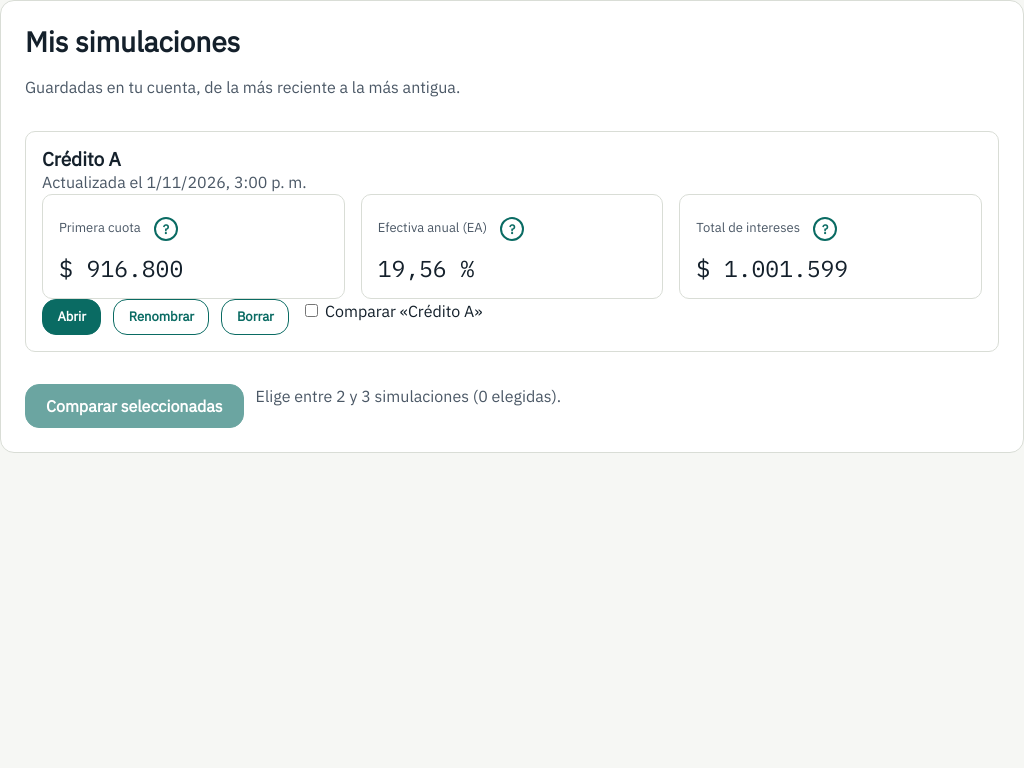
Test case: HU-21: Mis simulaciones (registrado) › renombrar guarda el nombre nuevo y recarga la lista
The image size is (1024, 768).
Check: the heading "Crédito A" is shown, box [42,147,121,171]
Click the button with aria-label "Renombrar Crédito A": (162, 317) [114,299,210,335]
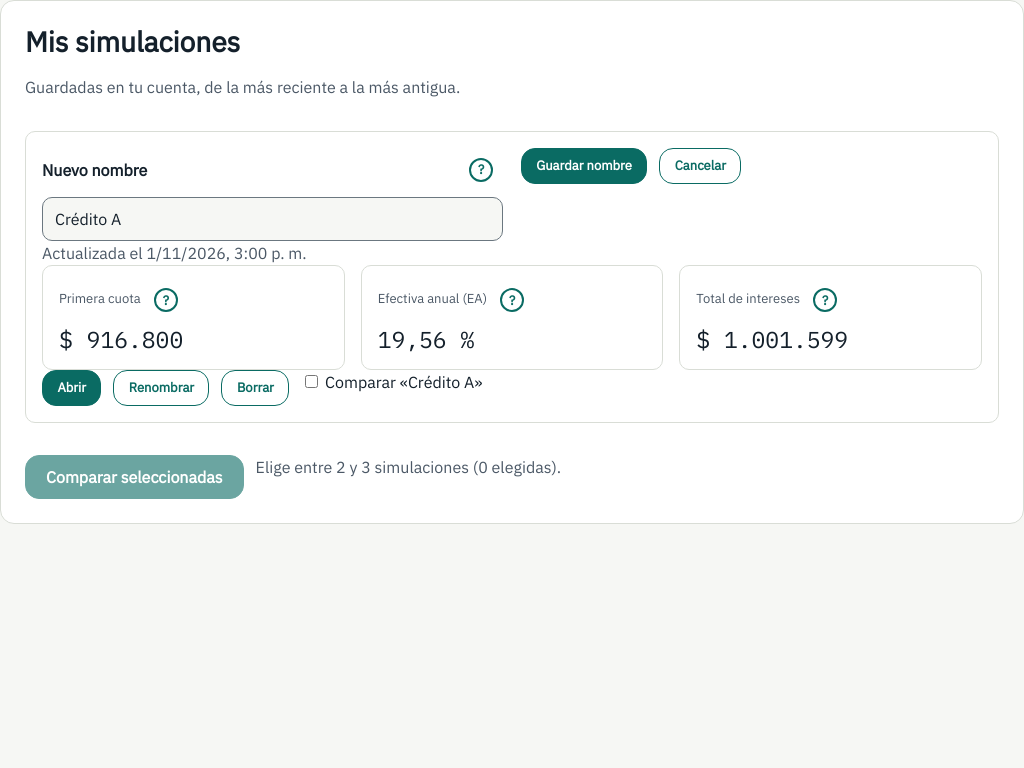
Replace the text in the field labelled "Nuevo nombre" with "  Casa nueva  ": (273, 219) [42,197,503,241]
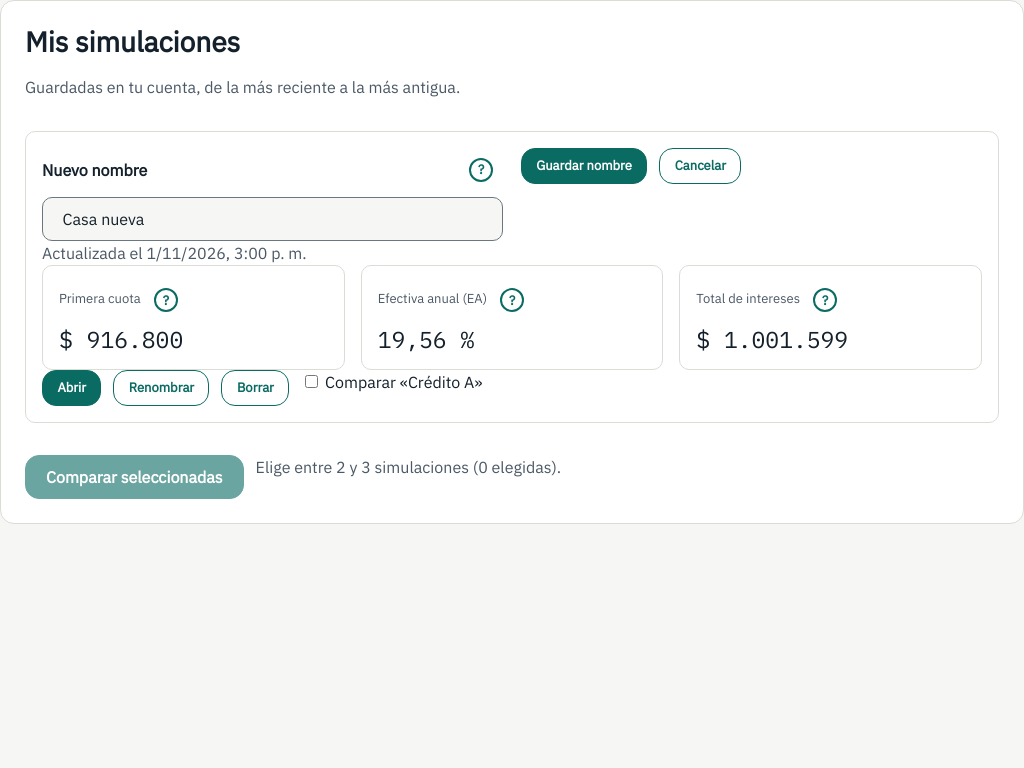
Click the button "Guardar nombre": (584, 166) [521,148,647,184]
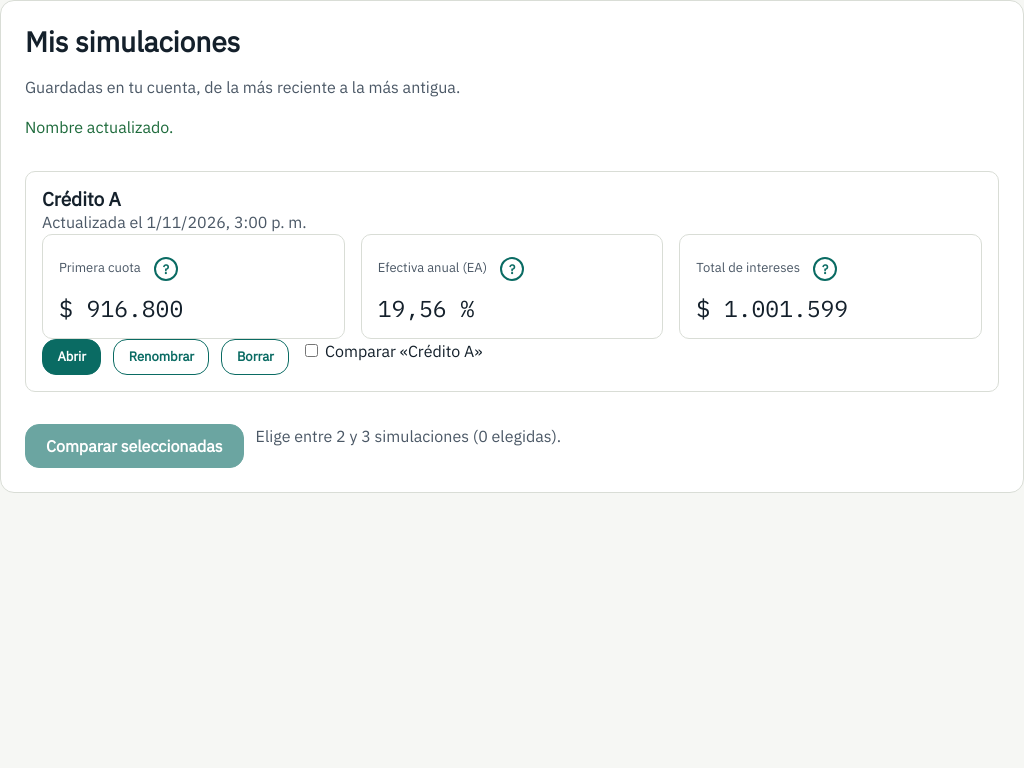
Check: the text "Nombre actualizado." is shown, box [25,117,173,137]
Check: the label labelled "Nuevo nombre" is gone
